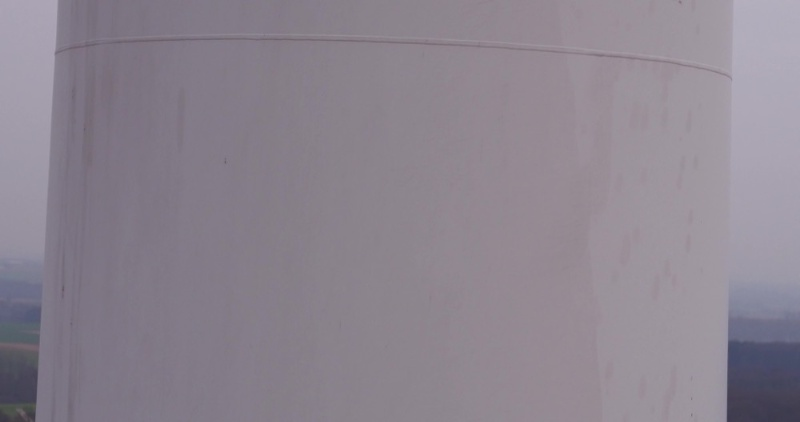weldseam: (50, 29, 736, 87)
